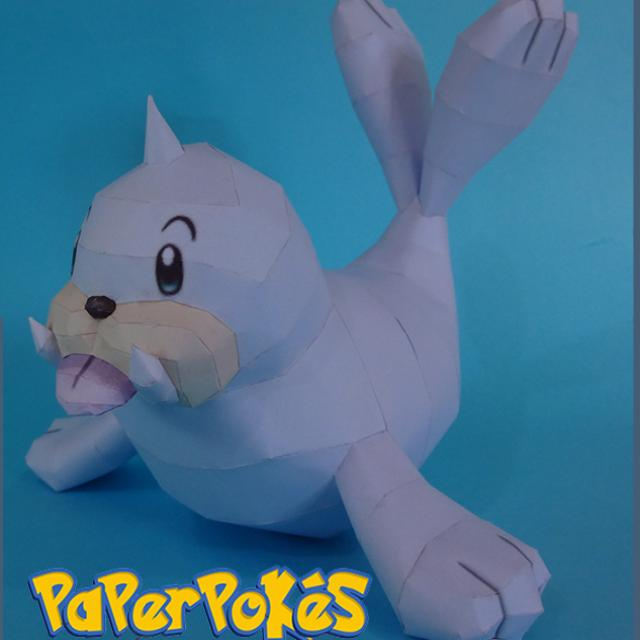Seel: (0, 0, 574, 574)
